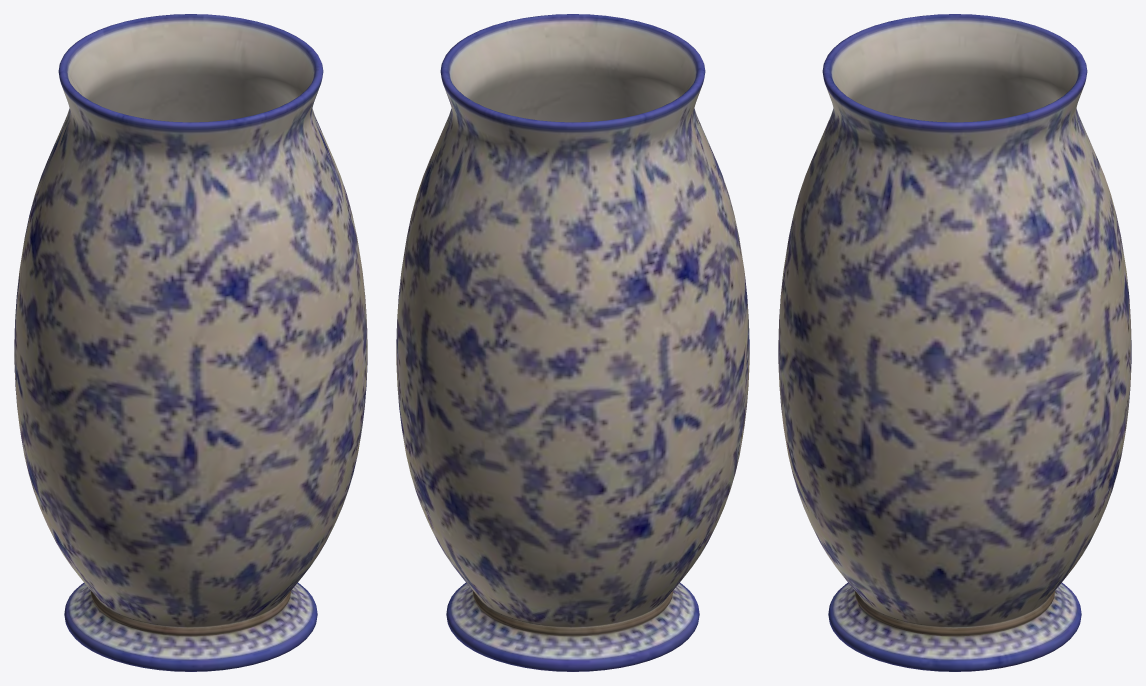
Rendered from antique_ceramic_vase_01.glb.
3 views of the same model, side by side, from view 1: azimuth 30°, elevation 25°; view 2: azimuth 150°, elevation 25°; view 3: azimuth 270°, elevation 25° (orthographic).
Visible parts, largest first — view 1: antique_ceramic_vase_01; view 2: antique_ceramic_vase_01; view 3: antique_ceramic_vase_01.
Boxes of the visible parts, <box> form: antique_ceramic_vase_01: <box>14,14,367,671</box>; antique_ceramic_vase_01: <box>396,14,749,671</box>; antique_ceramic_vase_01: <box>778,14,1131,671</box>.
Size of the model in its own units: 0.255 by 0.4396 by 0.255.
Materials: 1 (1 with a texture image).
